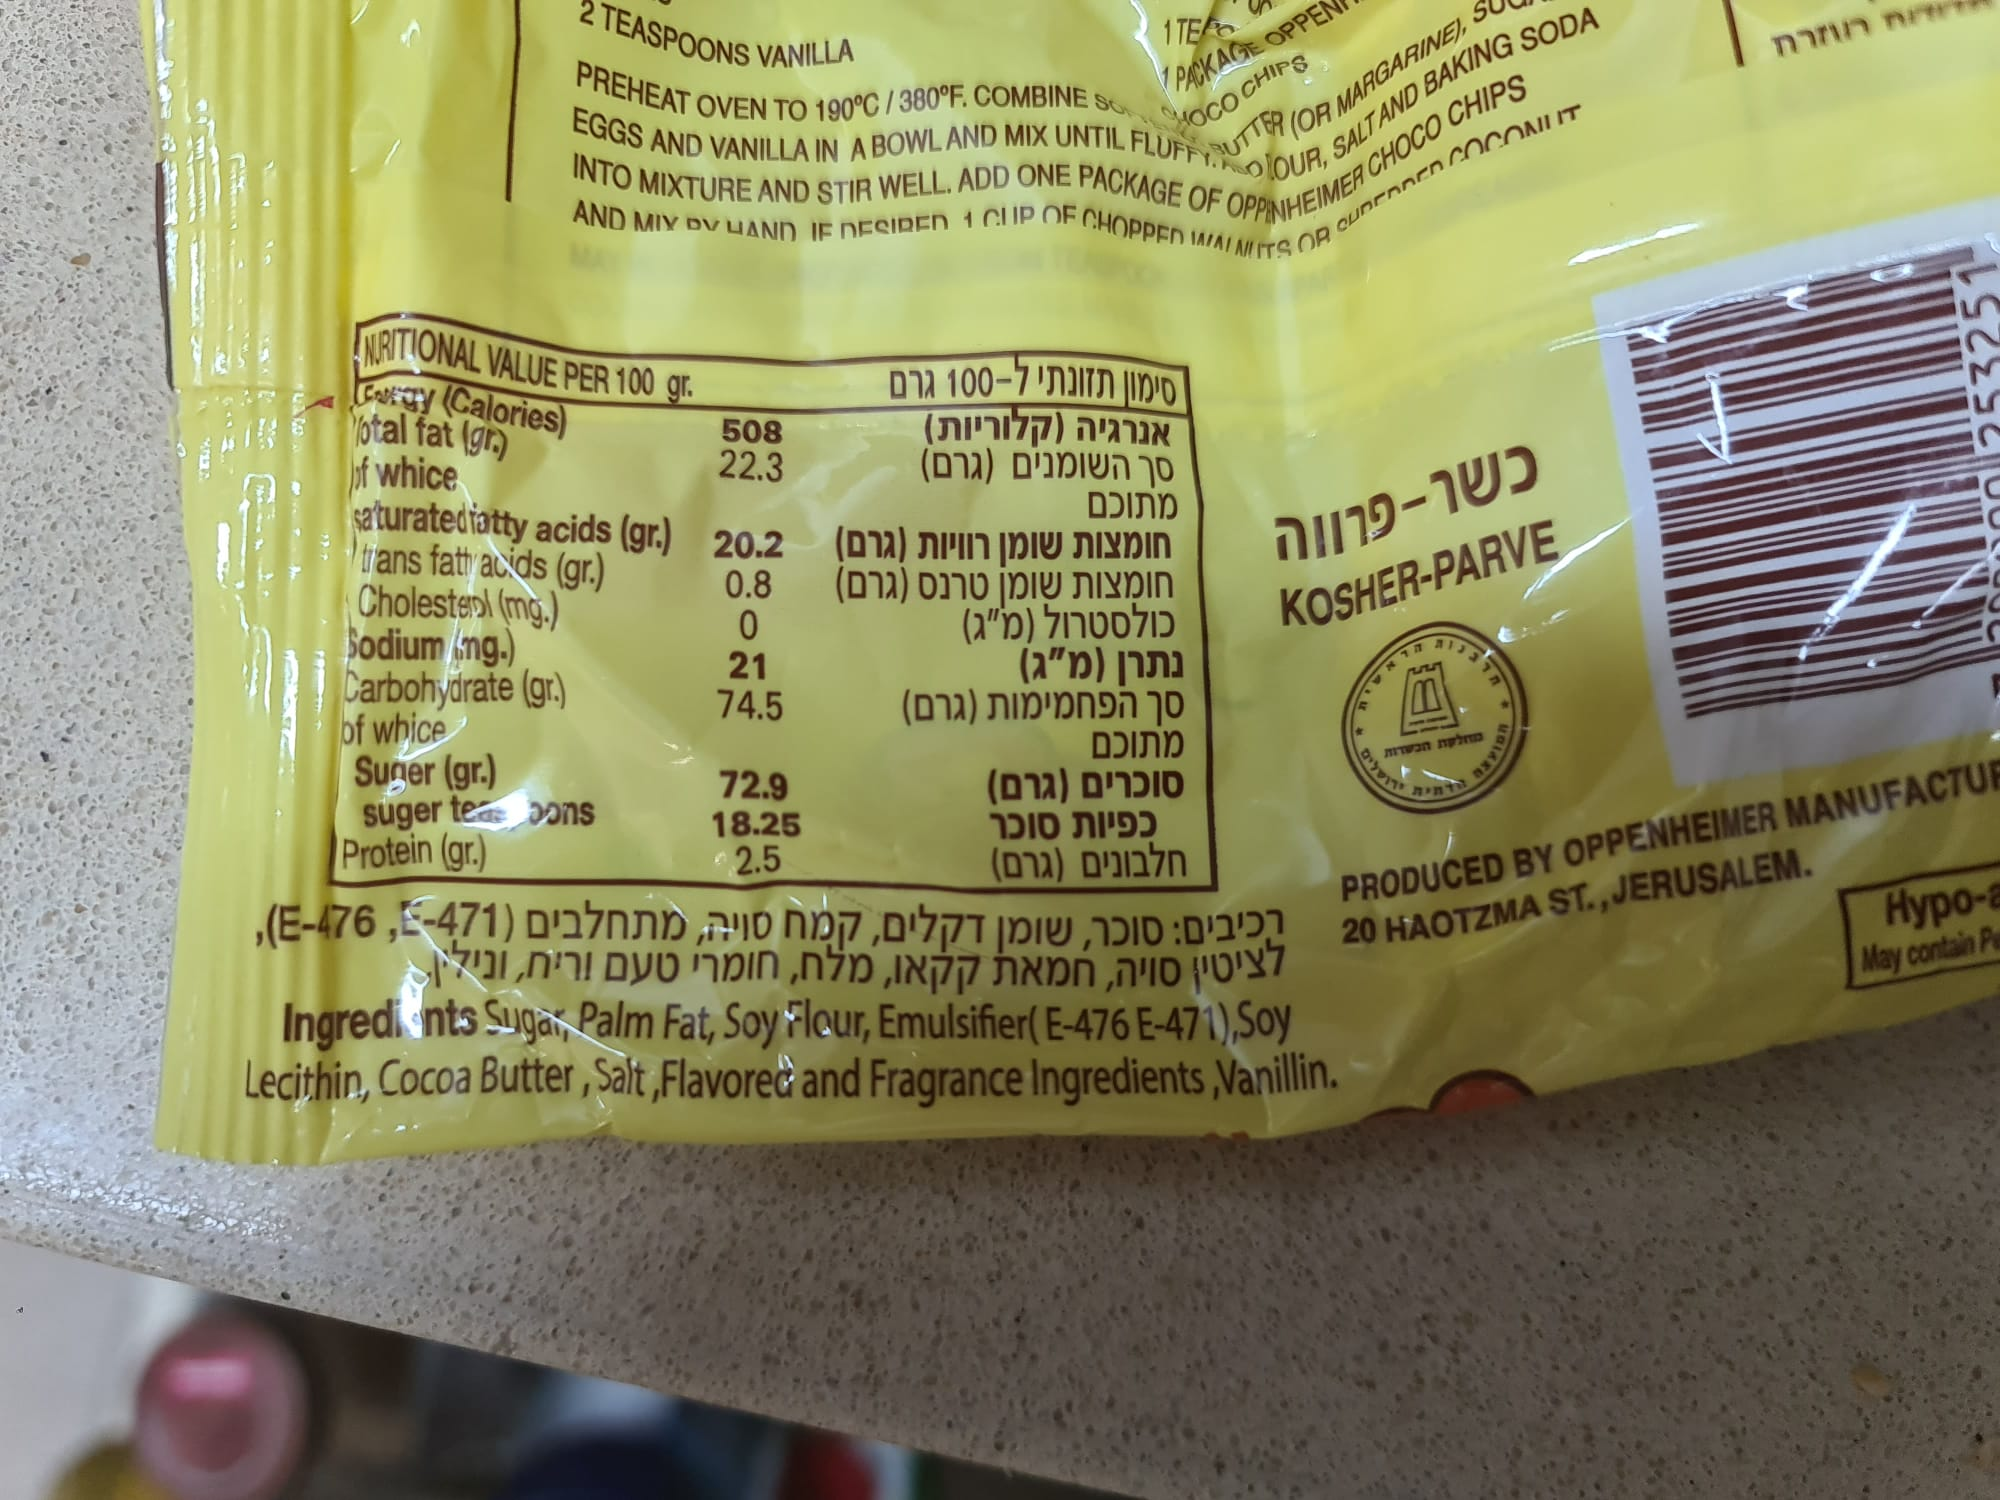l: (206, 993, 1350, 1112)
